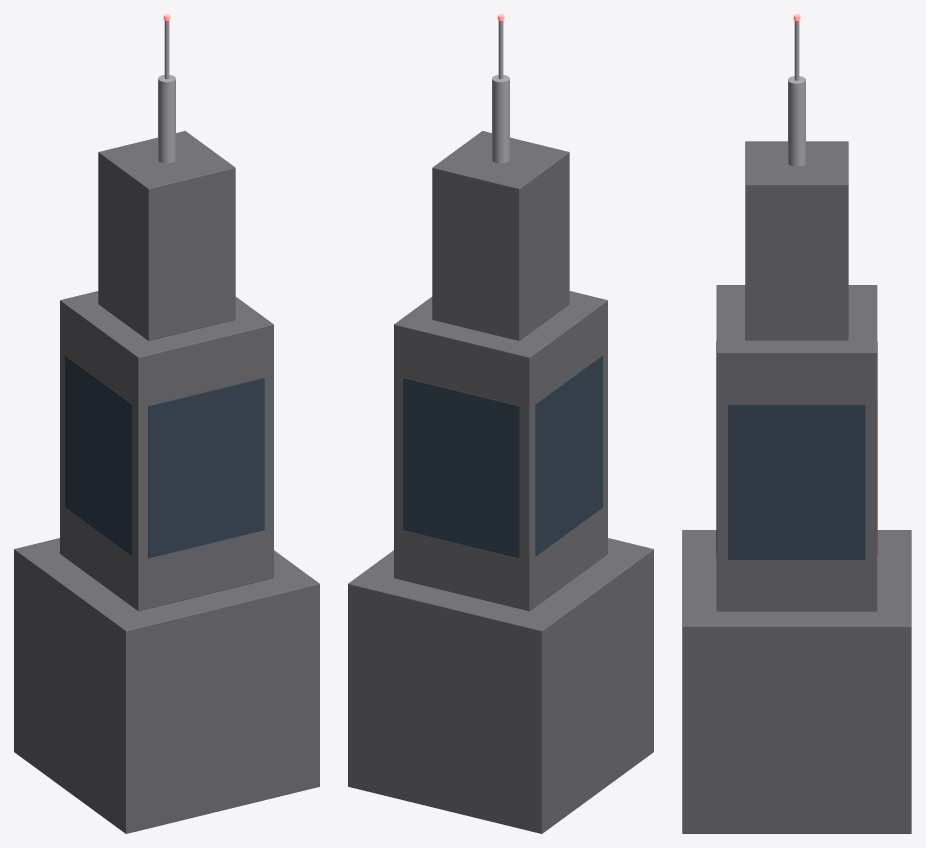
File: Skyscraper.fbx
3 renders of one model, left to right at view 1: azimuth 30°, elevation 25°; view 2: azimuth 150°, elevation 25°; view 3: azimuth 270°, elevation 25°, orthographic. The views are drawn at different scales.
Visible parts, largest first — view 1: Skyscraper_Base, Skyscraper_MidLevel, Skyscraper_Crown, Glass_Band_Mid_Y, Glass_Band_Mid_X, Rooftop_Spire_Base; view 2: Skyscraper_Base, Skyscraper_MidLevel, Skyscraper_Crown, Glass_Band_Mid_Y, Glass_Band_Mid_X, Rooftop_Spire_Base; view 3: Skyscraper_Base, Skyscraper_MidLevel, Glass_Band_Mid_X, Skyscraper_Crown, Rooftop_Spire_Base.
Boxes of the visible parts, box(x1,y1,x2,y2) form: Skyscraper_Base: box(14, 538, 319, 833); Skyscraper_MidLevel: box(60, 291, 273, 611); Skyscraper_Crown: box(98, 131, 235, 340); Glass_Band_Mid_Y: box(148, 377, 264, 558); Glass_Band_Mid_X: box(65, 355, 132, 556); Rooftop_Spire_Base: box(158, 75, 175, 163); Skyscraper_Base: box(348, 538, 653, 833); Skyscraper_MidLevel: box(394, 291, 607, 611); Skyscraper_Crown: box(432, 131, 569, 340); Glass_Band_Mid_Y: box(403, 377, 519, 558); Glass_Band_Mid_X: box(535, 355, 602, 556); Rooftop_Spire_Base: box(492, 75, 509, 163); Skyscraper_Base: box(682, 530, 911, 833); Skyscraper_MidLevel: box(716, 285, 877, 611); Glass_Band_Mid_X: box(728, 404, 865, 559); Skyscraper_Crown: box(745, 141, 848, 340); Rooftop_Spire_Base: box(788, 76, 805, 166).
Bounding box in the file's own units: 20 × 20 × 74.2.
